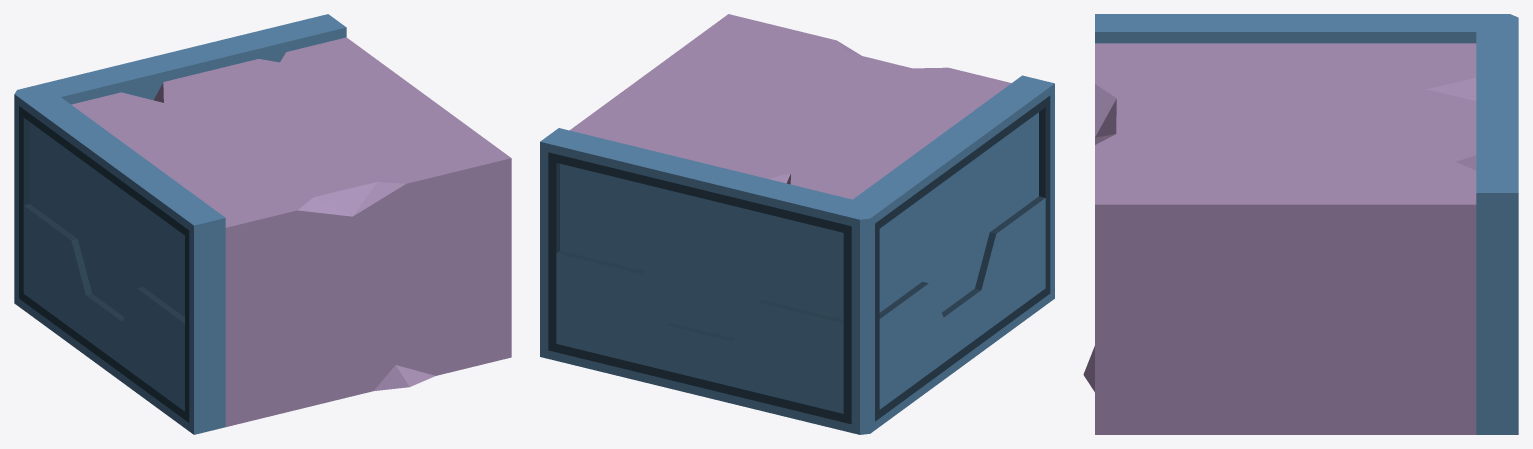
The model's file is Wall.007.fbx.
3 views of the same model, side by side, from view 1: azimuth 30°, elevation 25°; view 2: azimuth 150°, elevation 25°; view 3: azimuth 270°, elevation 25° (orthographic). The views are drawn at different scales.
Parts seen in each view (by area): view 1: Wall.007; view 2: Wall.007; view 3: Wall.007.
Part boxes in pixels (<box>): Wall.007: <box>14,14,511,434</box>; Wall.007: <box>540,14,1054,434</box>; Wall.007: <box>1083,14,1518,434</box>.
Bounding box in the file's own units: 1000 × 630 × 1027.
